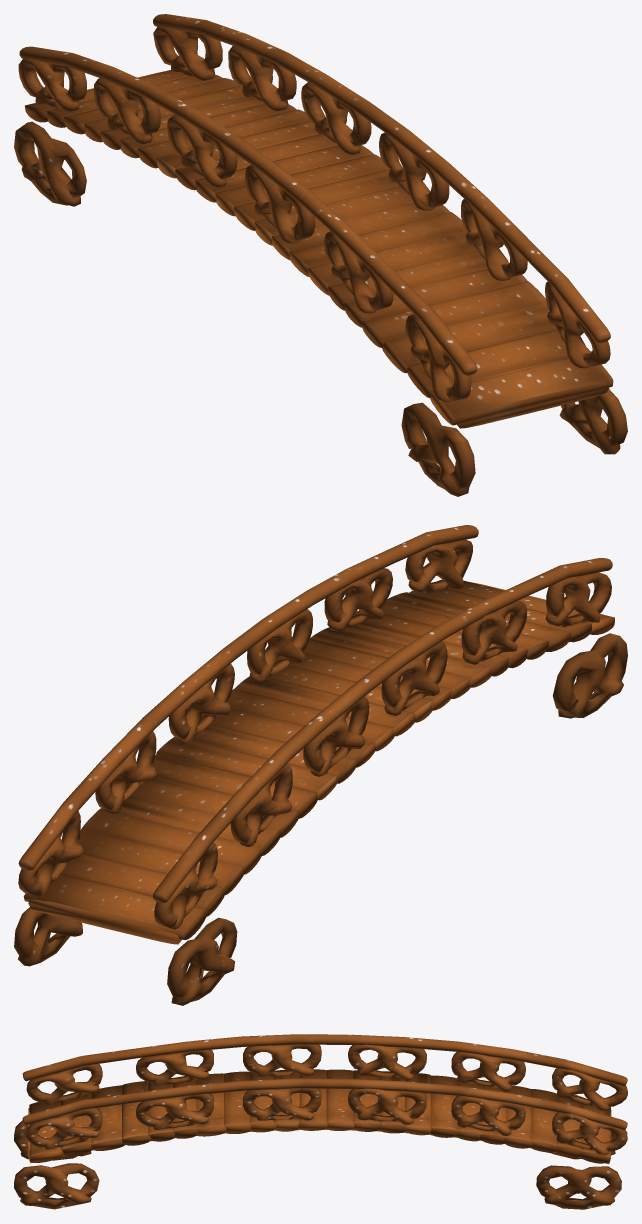
The model's file is pretzel_bridge_v3.glb.
3 renders of one model, top to bottom at view 1: azimuth 30°, elevation 25°; view 2: azimuth 150°, elevation 25°; view 3: azimuth 270°, elevation 25°, orthographic. The views are drawn at different scales.
Visible parts, largest first — view 1: pretzel_bridge; view 2: pretzel_bridge; view 3: pretzel_bridge.
Boxes of the visible parts, x1,y1,x2,y2 form: pretzel_bridge: (14, 14, 627, 496); pretzel_bridge: (14, 525, 627, 1005); pretzel_bridge: (14, 1034, 627, 1209).
Size of the model in its own units: 3.54 by 3.65 by 15.86.
1 material, 1 textured.
